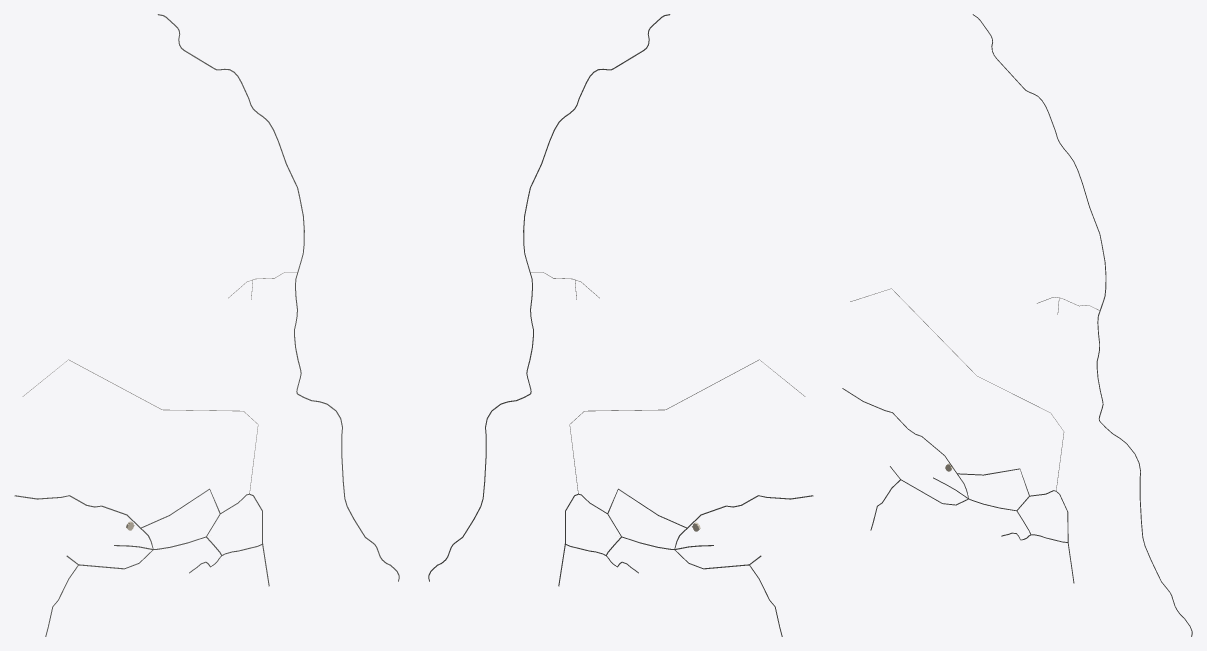
Rendered from historic-palestine-12_29_3537_3239.glb.
The picture shows the model from 3 angles, left to right: view 1: azimuth 30°, elevation 25°; view 2: azimuth 150°, elevation 25°; view 3: azimuth 330°, elevation 25°; orthographic projection. The views are drawn at different scales.
Parts seen in each view (by area): view 1: Road; view 2: Road; view 3: Road.
Boxes of the visible parts, x1,y1,x2,y2 form: Road: (157, 14, 399, 581); Road: (428, 14, 670, 581); Road: (972, 14, 1192, 636).
Bounding box in the file's own units: 1213 × 1884 × 8.7.
